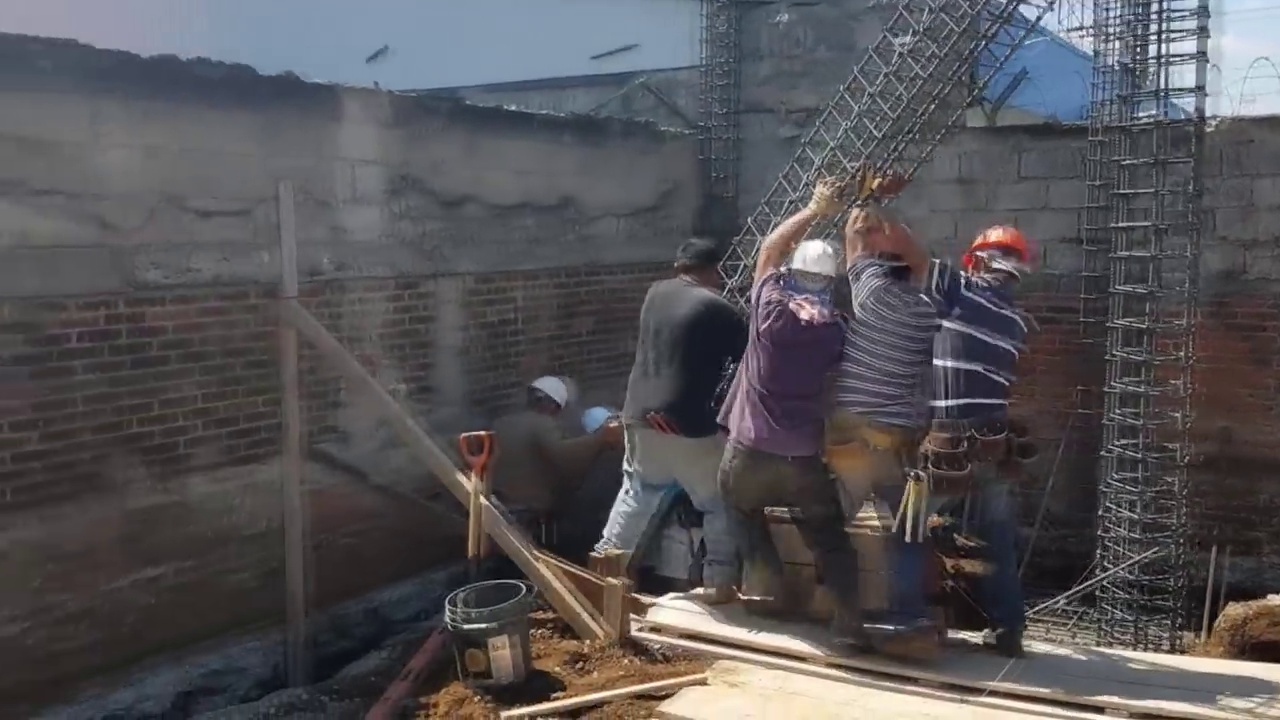helmet: (965, 224, 1032, 275), (869, 217, 919, 270), (788, 237, 836, 282), (525, 378, 573, 415)
helmet-off: (672, 239, 731, 291)
helmet-on: (959, 223, 1030, 300), (778, 229, 843, 312), (869, 217, 920, 281), (517, 374, 574, 426), (582, 406, 611, 434)
person: (716, 200, 862, 650), (917, 221, 1036, 663), (616, 242, 749, 607), (836, 215, 946, 629), (484, 378, 611, 540)
